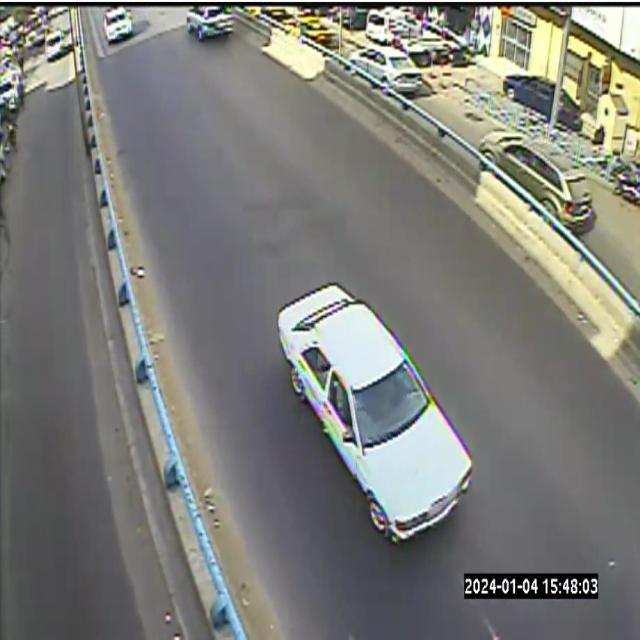car: (0, 86, 208, 638), (0, 85, 206, 638), (45, 30, 71, 61)
